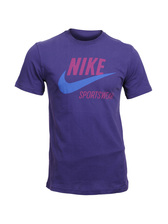clothoes: (16, 28, 154, 195)
